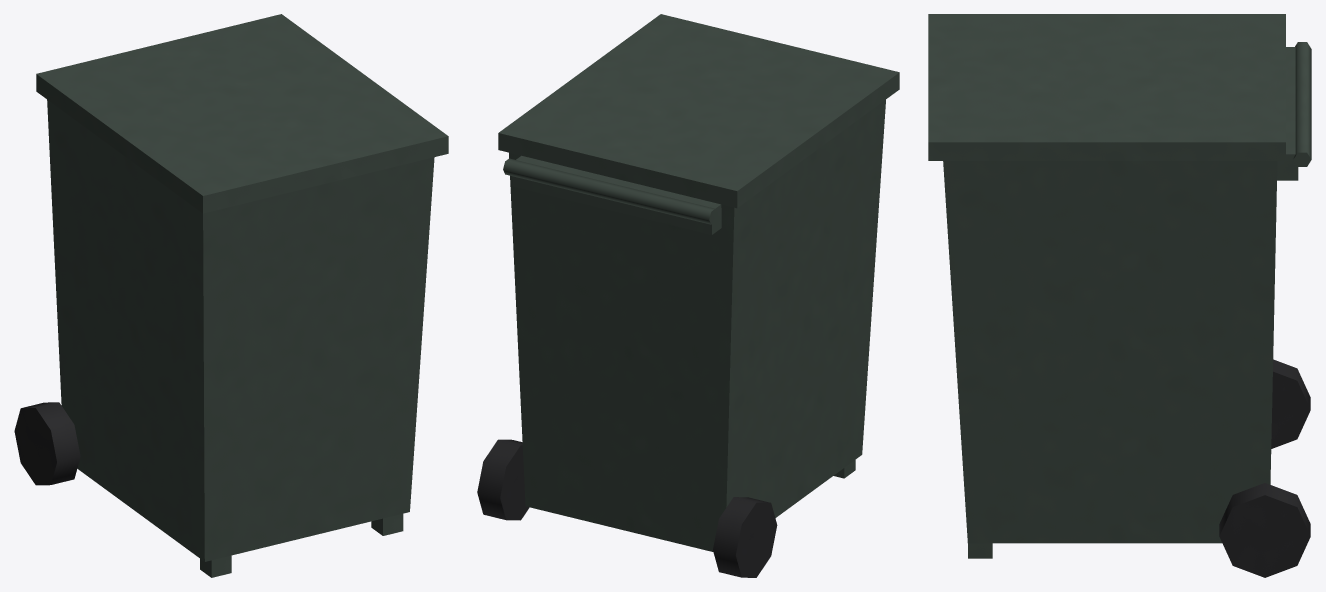
Rendered from trash_bin.gltf.
The picture shows the model from 3 angles, left to right: view 1: azimuth 30°, elevation 25°; view 2: azimuth 150°, elevation 25°; view 3: azimuth 270°, elevation 25°; orthographic projection. The views are drawn at different scales.
Parts seen in each view (by area): view 1: trash_bin; view 2: trash_bin; view 3: trash_bin.
Boxes of the visible parts, left/top/right/bottom form: trash_bin: left=14, top=14, right=448, bottom=577; trash_bin: left=477, top=14, right=899, bottom=577; trash_bin: left=928, top=14, right=1311, bottom=577.
Size of the model in its own units: 0.79 by 1.14 by 0.922.
Materials: 2 (2 with a texture image).
